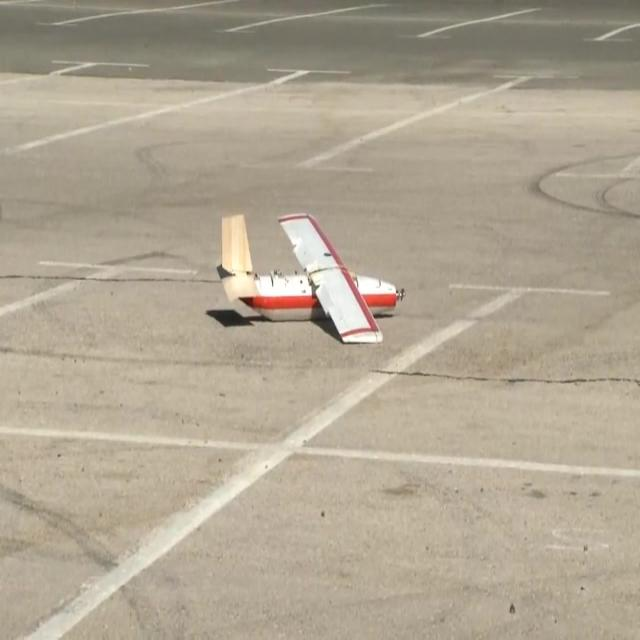iha: (214, 212, 406, 343)
